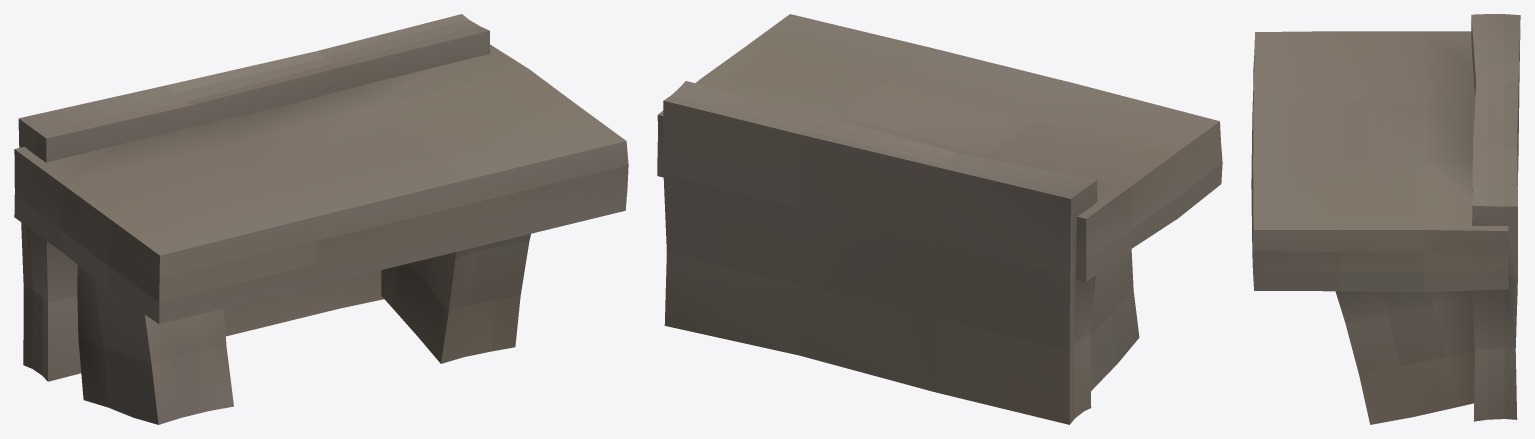
File: cave_ledge.c3465065.glb
3 renders of one model, left to right at view 1: azimuth 30°, elevation 25°; view 2: azimuth 150°, elevation 25°; view 3: azimuth 270°, elevation 25°, orthographic. The views are drawn at different scales.
Visible parts, largest first — view 1: cave_ledge; view 2: cave_ledge; view 3: cave_ledge.
Part boxes in pixels (box(x1,y1,x2,y2)): cave_ledge: box(14, 14, 628, 424); cave_ledge: box(657, 14, 1222, 424); cave_ledge: box(1251, 14, 1520, 424).
Bounding box in the file's own units: 2.42 × 1.32 × 1.37.
